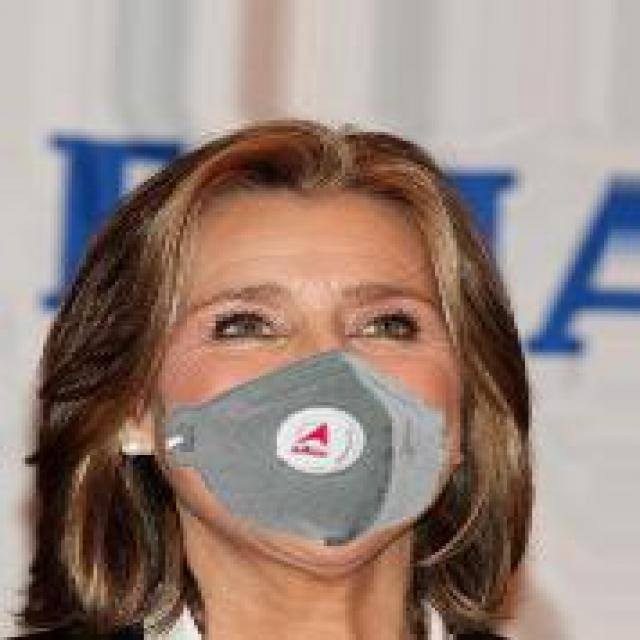mask: (108, 82, 557, 578)
